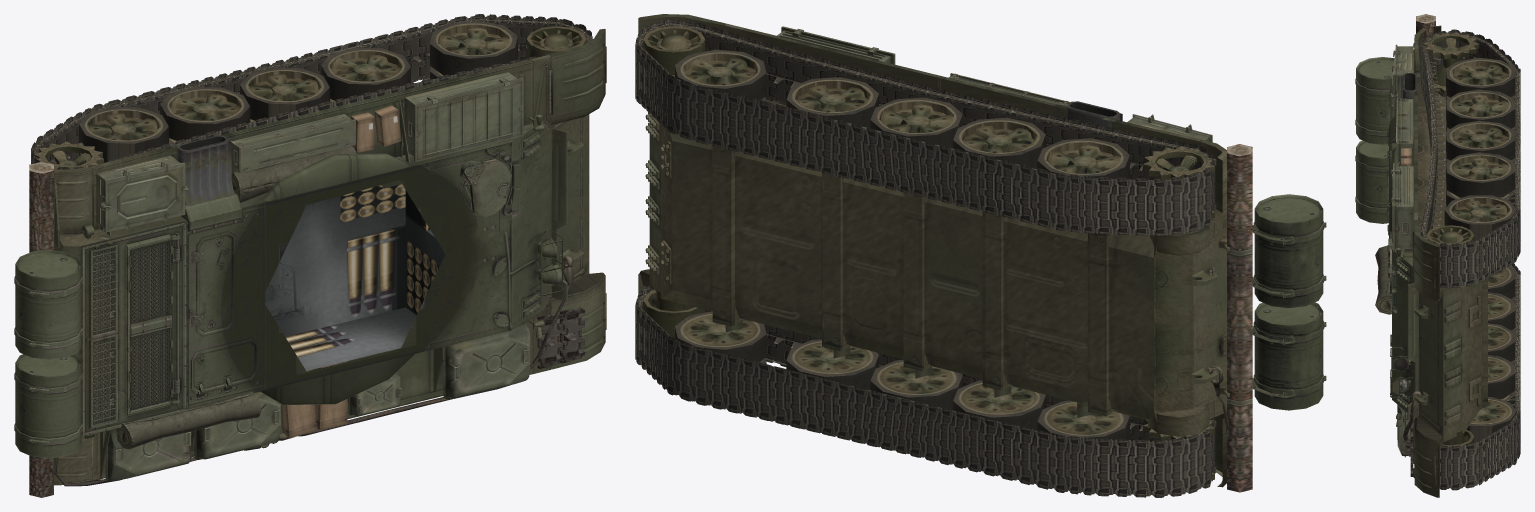
The model's file is hull-t55.glb.
The picture shows the model from 3 angles, left to right: view 1: azimuth 30°, elevation 25°; view 2: azimuth 150°, elevation 25°; view 3: azimuth 270°, elevation 25°; orthographic projection. The views are drawn at different scales.
Parts seen in each view (by area): view 1: hull, hullb, accessories, interior, gear559, track2, gear100, mesh06_t55-tanks_10_0, tire09, hatch3, gear, tire08 (+15 smaller); view 2: hull, track2, track, suspension, gear559, mesh06_t55-tanks_10_0, hullb, tire, accessories, tire01, tire05, tire04 (+14 smaller); view 3: hull, track2, gear559, track, accessories, tire06, hullb, wheel14, tire, tire08, tire03, tire07 (+18 smaller).
Part boxes in pixels (x1,y1,x2,y2): hull: (54,29,606,480); hullb: (44,135,265,485); accessories: (96,72,530,481); interior: (265,153,499,370); gear559: (14,250,82,458); track2: (31,14,592,169); gear100: (116,391,261,449); mesh06_t55-tanks_10_0: (29,162,53,497); tire09: (430,21,517,79); hatch3: (460,159,511,217); gear: (537,307,584,368); tire08: (79,106,168,162); hull: (638,14,1226,421); track2: (635,18,1215,235); track: (635,286,1215,497); suspension: (712,146,1110,416); gear559: (1252,194,1326,410); mesh06_t55-tanks_10_0: (1227,144,1252,492); hullb: (994,101,1253,487); tire: (675,311,766,363); accessories: (777,26,1212,142); tire01: (786,339,878,390); tire05: (870,359,962,410); tire04: (953,380,1045,430); hull: (1390,81,1483,497); track2: (1420,29,1520,287); gear559: (1355,57,1394,223); track: (1439,263,1520,490); accessories: (1390,44,1413,457); tire06: (1446,152,1515,207); hullb: (1387,25,1445,279); wheel14: (1422,32,1479,94); tire: (1466,397,1516,442); tire08: (1446,57,1515,100); tire03: (1446,120,1515,163); tire07: (1446,89,1515,131).
Bounding box in the file's own units: 4.81 × 2.4 × 1.39.
Materials: 7 (7 with a texture image).
